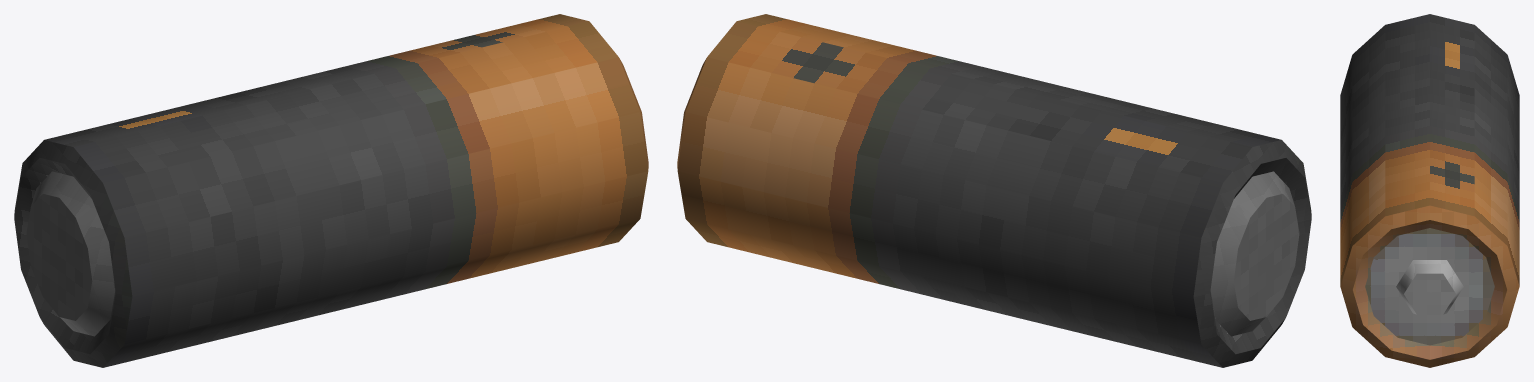
The model's file is battery_mp_1.glb.
The picture shows the model from 3 angles, left to right: view 1: azimuth 30°, elevation 25°; view 2: azimuth 150°, elevation 25°; view 3: azimuth 270°, elevation 25°; orthographic projection. The views are drawn at different scales.
Parts seen in each view (by area): view 1: battery_mp_1; view 2: battery_mp_1; view 3: battery_mp_1.
Part boxes in pixels (x1=…): battery_mp_1: x1=14, y1=14, x2=648, y2=367; battery_mp_1: x1=677, y1=14, x2=1311, y2=367; battery_mp_1: x1=1340, y1=14, x2=1519, y2=367.
Bounding box in the file's own units: 0.097 × 0.036 × 0.036.
1 material, 1 textured.
